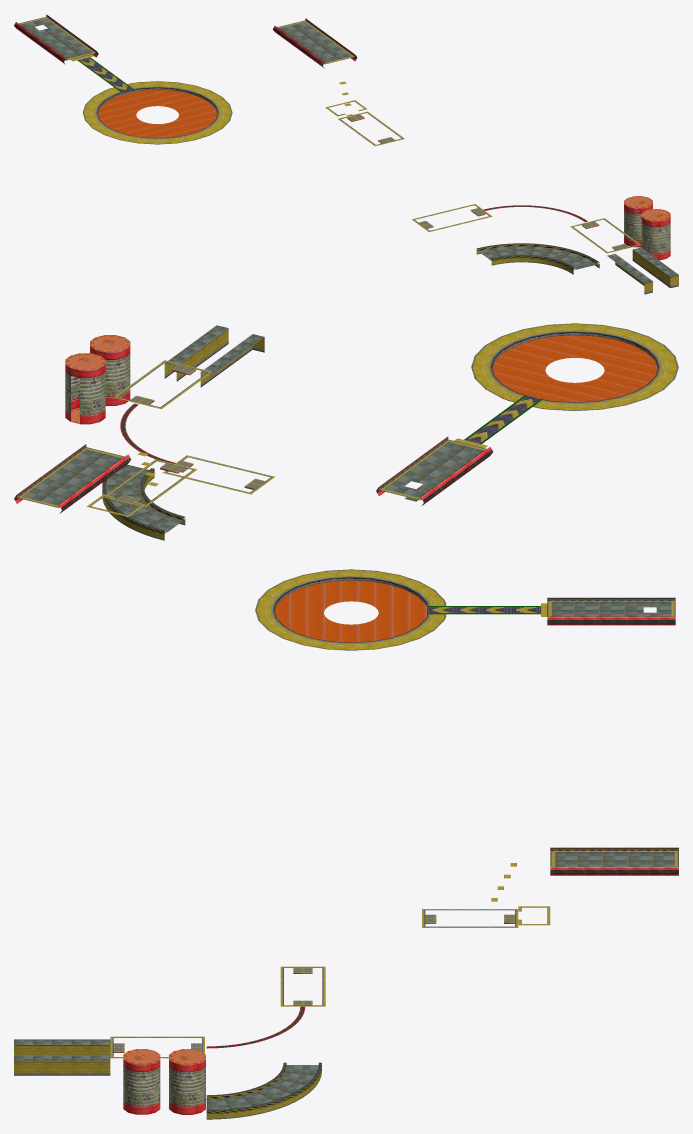
Rendered from Bullet Station 39.fbx.
The picture shows the model from 3 angles, top to bottom: view 1: azimuth 30°, elevation 25°; view 2: azimuth 150°, elevation 25°; view 3: azimuth 270°, elevation 25°; orthographic projection. The views are drawn at different scales.
Visible parts, largest first — view 1: STG08_ONS_01; view 2: STG08_ONS_01; view 3: STG08_ONS_01.
Part boxes in pixels (<box>): STG08_ONS_01: <box>14,14,678,294</box>; STG08_ONS_01: <box>14,323,678,540</box>; STG08_ONS_01: <box>14,569,678,1119</box>.
Bounding box in the file's own units: 228295 × 93000 × 207000.
